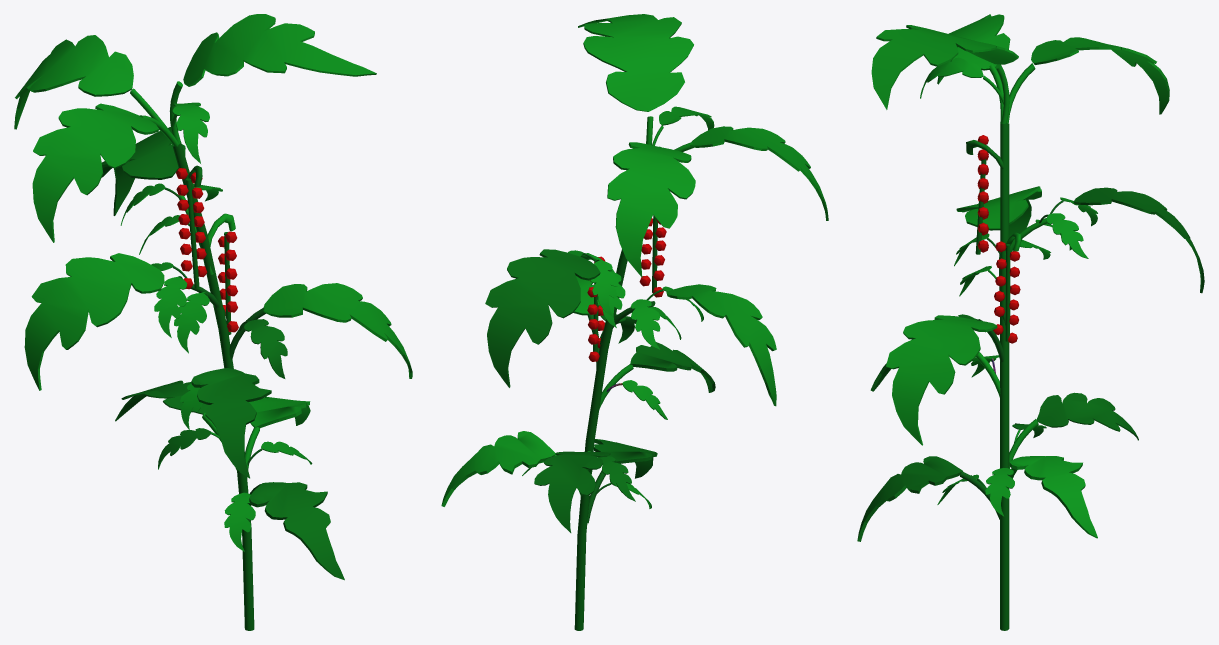
The model's file is 番茄成熟.FBX.
3 views of the same model, side by side, from view 1: azimuth 30°, elevation 25°; view 2: azimuth 150°, elevation 25°; view 3: azimuth 270°, elevation 25° (orthographic). The views are drawn at different scales.
Visible parts, largest first — view 1: Line018, Line005, Line006, Line007, Line023, Line004, Line002, Cylinder007, Line012, Line013, Line009, Line011 (+6 smaller); view 2: Line012, Line006, Line007, Line018, Line003, Cylinder007, Line013, Line005, Line023, Line002, Line021, Line016 (+3 smaller); view 3: Line004, Line006, Cylinder007, Line013, Line007, Line003, Line002, Line012, Line018, Line005, Line014, Line015 (+2 smaller).
Part boxes in pixels (x1,y1,x2,y2): Line018: (24,253,164,390); Line005: (32,103,158,242); Line006: (183,14,376,86); Line007: (14,35,133,129); Line023: (191,368,271,478); Line004: (263,283,412,378); Line002: (249,482,344,580); Cylinder007: (172,141,254,630); Line012: (101,127,185,215); Line013: (248,396,310,428); Line009: (244,319,287,378); Line011: (172,102,209,163); Line012: (485,249,600,387); Line006: (578,14,693,111); Line007: (607,142,695,277); Line018: (666,284,776,406); Line003: (534,451,610,532); Cylinder007: (574,249,627,630); Line013: (441,431,555,506); Line005: (690,126,828,220); Line023: (630,342,715,392); Line002: (594,439,657,478); Line021: (630,299,660,349); Line016: (590,260,618,316); Line004: (886,315,997,445); Line006: (871,25,1018,109); Cylinder007: (1000,123,1009,630); Line013: (1009,456,1097,538); Line007: (1031,37,1169,114); Line003: (1036,392,1138,440); Line002: (857,456,962,541); Line012: (1073,187,1204,293); Line018: (956,186,1041,237); Line005: (937,14,1010,84); Line014: (985,468,1014,516); Line015: (1046,213,1088,258).
Size of the model in its own units: 54.1 by 89.82 by 48.55.
Materials: 5 (2 with a texture image).
